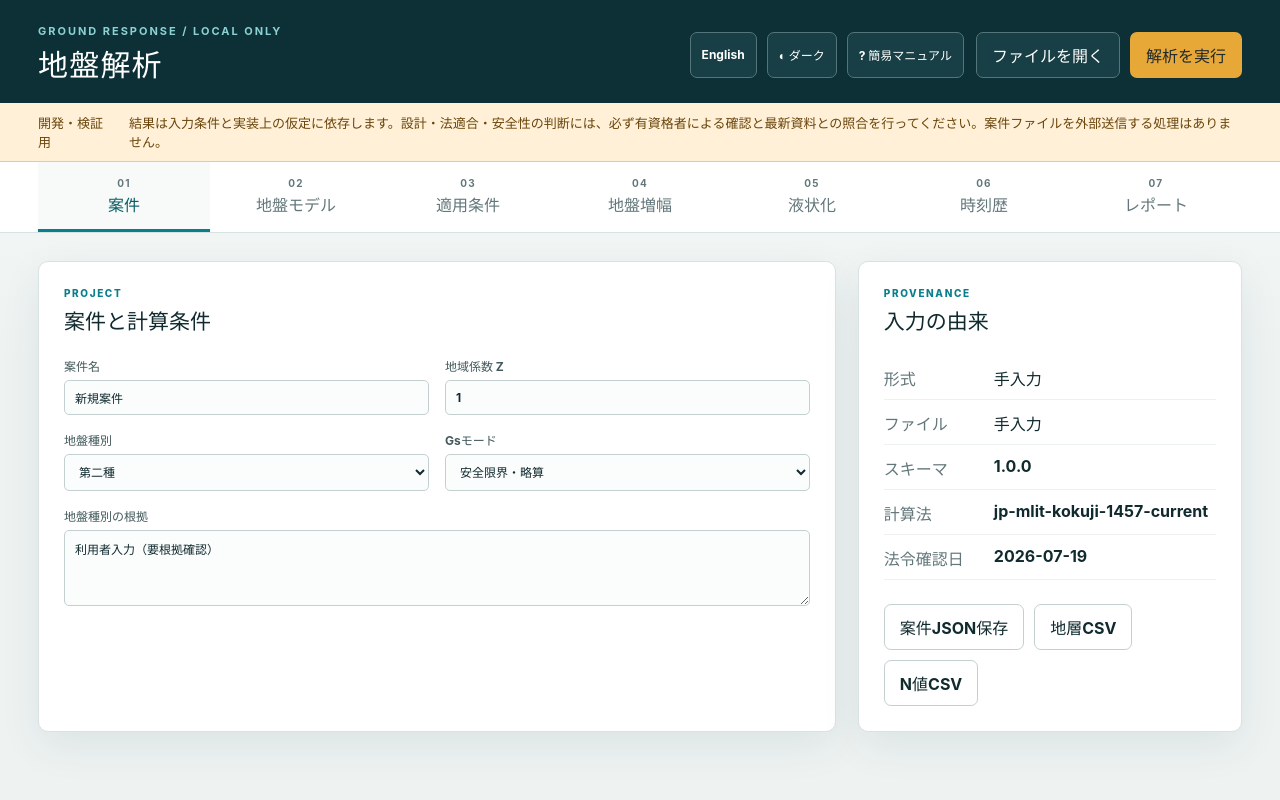
App analysis result lifecycle › 解析中に入力が変わった場合は古い入力の結果を確定表示しない
Click the button "解析を実行". click: (1186, 54)
box: [1130, 32, 1242, 78]
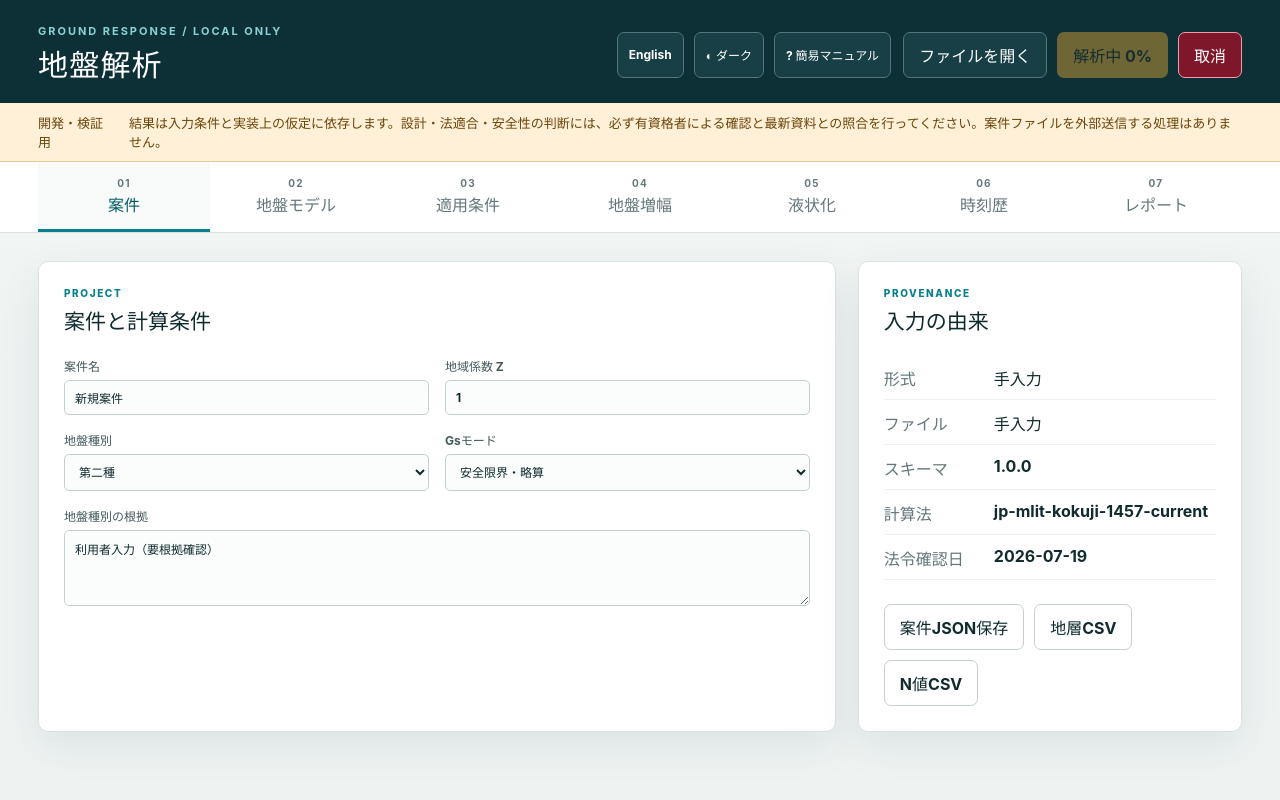
Replace the text in the field labelled "案件名" with "解析中の変更". click: (246, 398)
box: [64, 380, 429, 415]
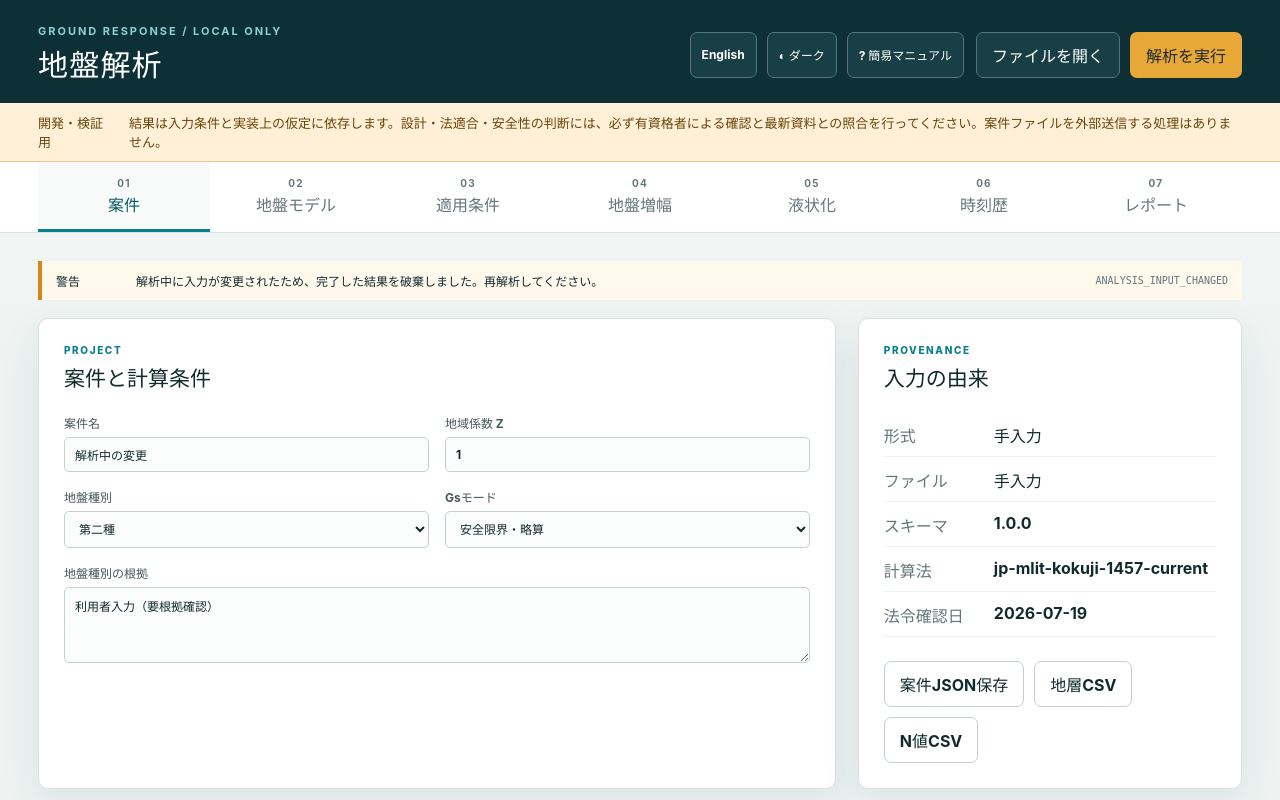
Check: the text "ANALYSIS_INPUT_CHANGED" is shown, box [1096, 275, 1228, 286]
